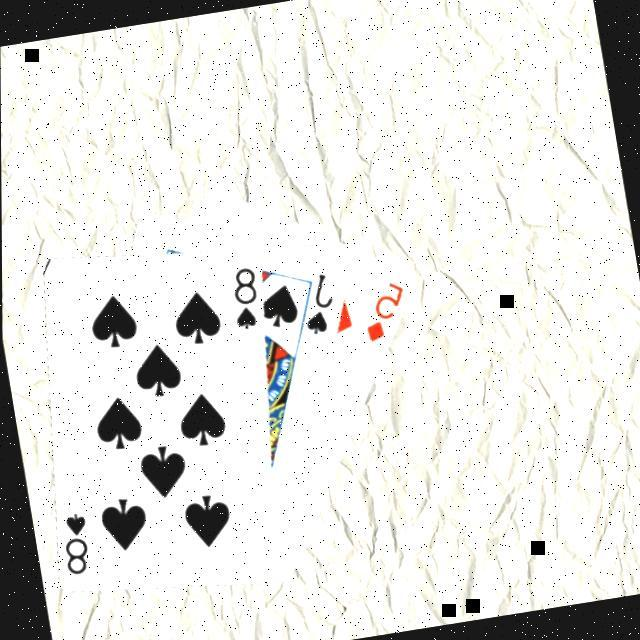5D: (356, 278, 416, 348)
8S: (225, 264, 268, 336), (56, 508, 98, 580)
JS: (295, 270, 343, 341)
